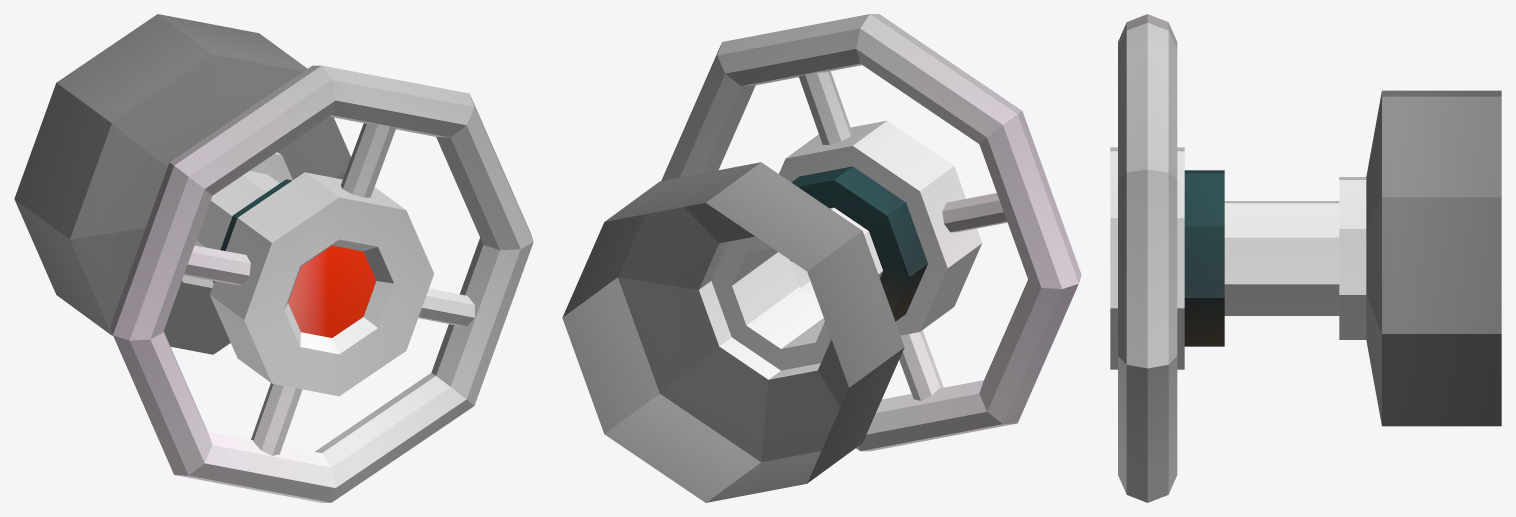
The model's file is Valve.fbx.
The picture shows the model from 3 angles, left to right: view 1: azimuth 30°, elevation 25°; view 2: azimuth 150°, elevation 25°; view 3: azimuth 270°, elevation 25°; orthographic projection. The views are drawn at different scales.
Visible parts, largest first — view 1: Valve; view 2: Valve; view 3: Valve.
Part boxes in pixels (x1,y1,x2,y2): Valve: (14, 14, 533, 502); Valve: (562, 14, 1081, 502); Valve: (1110, 14, 1501, 502).
Bounding box in the file's own units: 40.77 × 40.77 × 30.66.
